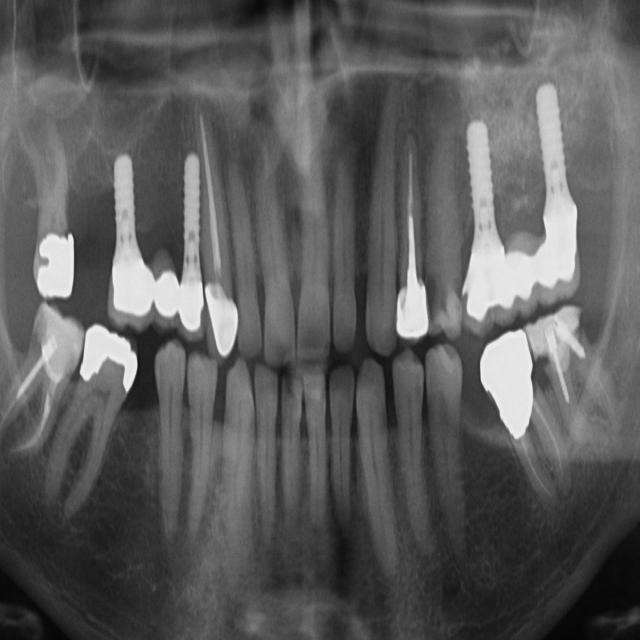dentin-curugu: (275, 365, 309, 420)
implant: (523, 86, 595, 298), (459, 107, 519, 320), (99, 129, 163, 325), (164, 142, 210, 348)
kanal-tedavisi: (0, 342, 70, 453), (490, 412, 577, 499), (393, 130, 432, 287), (199, 106, 233, 282), (543, 342, 595, 413)
kaplama: (485, 325, 541, 443), (72, 323, 144, 400), (23, 223, 79, 306), (202, 284, 252, 353), (389, 279, 430, 341)
kopru: (489, 236, 577, 306), (124, 267, 200, 328)
